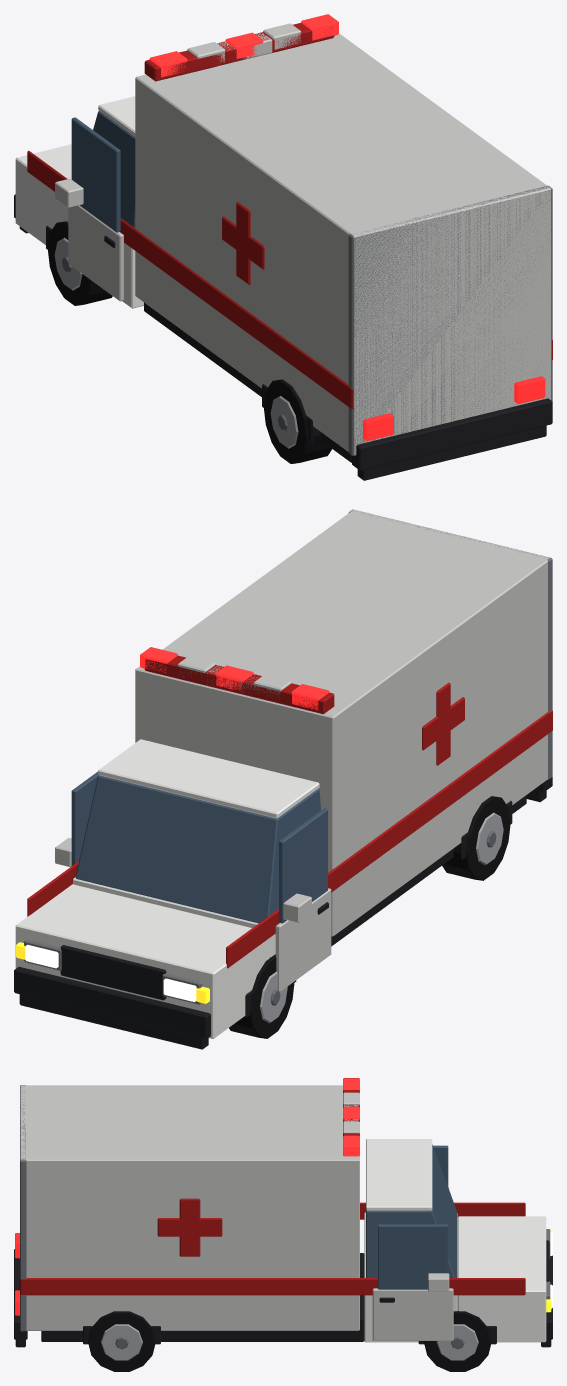
Rendered from car_ambulance.glb.
3 renders of one model, top to bottom at view 1: azimuth 30°, elevation 25°; view 2: azimuth 150°, elevation 25°; view 3: azimuth 270°, elevation 25°, orthographic. The views are drawn at different scales.
Visible parts, largest first — view 1: car_body, car_door_FL; view 2: car_body, car_door_FL, car_door_FR; view 3: car_body, car_door_FR, car_door_FL.
Part boxes in pixels (<box>): car_body: <box>14,14,552,480</box>; car_door_FL: <box>55,117,123,301</box>; car_body: <box>14,509,552,1049</box>; car_door_FL: <box>275,808,331,991</box>; car_door_FR: <box>55,771,99,866</box>; car_body: <box>14,1078,552,1371</box>; car_door_FR: <box>372,1224,453,1340</box>; car_door_FL: <box>433,1145,449,1189</box>.
Bounding box in the file's own units: 2.58 × 2.9 × 6.34.
